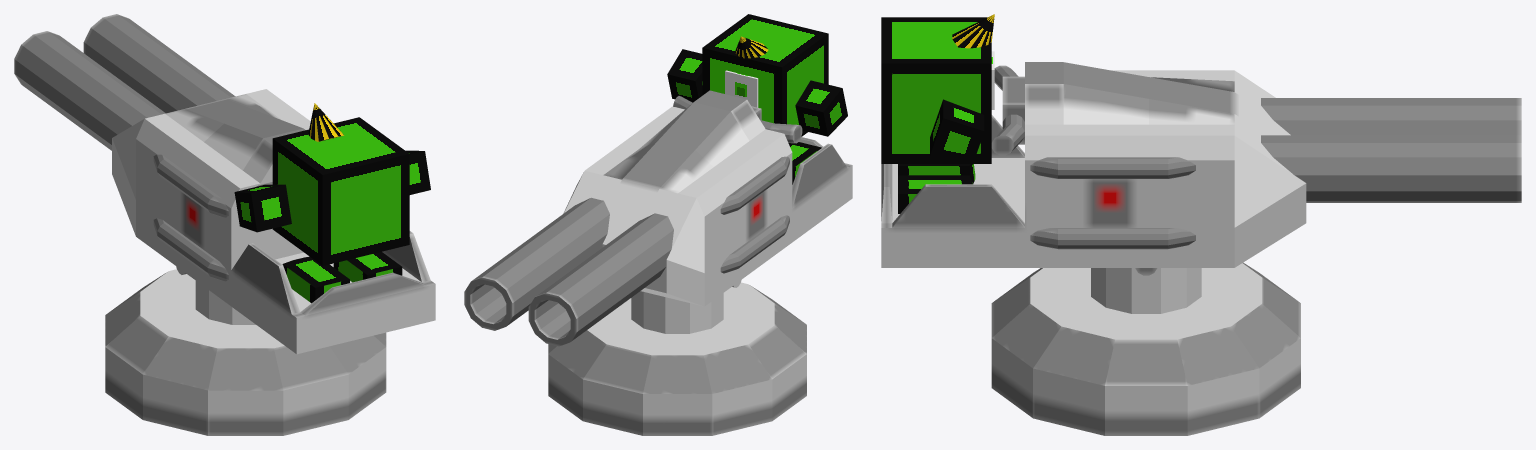
File: akudo-fu+houdai-nirenhou3.fbx
The picture shows the model from 3 angles, left to right: view 1: azimuth 30°, elevation 25°; view 2: azimuth 150°, elevation 25°; view 3: azimuth 270°, elevation 25°; orthographic projection. The views are drawn at different scales.
Parts seen in each view (by area): view 1: cuboid_6, cylinder, cuboid, cylinder_5, cylinder_2, cuboid_4, cuboid_2, cylinder_6, cylinder_7, cuboid_1, cylinder_1, cuboid_3 (+1 smaller); view 2: cuboid_6, cylinder, cylinder_5, cylinder_2, cuboid, cylinder_1, cuboid_4, cuboid_3, cylinder_6, cylinder_7, cuboid_5, cylinder_4 (+2 smaller); view 3: cuboid_6, cylinder, cylinder_2, cuboid, cylinder_5, cylinder_1, cylinder_8, cylinder_9, cuboid_3, cylinder_4, cuboid_1, cuboid_7 (+2 smaller).
Boxes of the visible parts, x1,y1,x2,y2 form: cuboid_6: (112, 89, 435, 354); cylinder: (105, 269, 386, 435); cuboid: (272, 117, 409, 265); cylinder_5: (14, 31, 165, 150); cylinder_2: (83, 14, 235, 113); cuboid_4: (234, 184, 291, 232); cuboid_2: (282, 256, 349, 303); cylinder_6: (153, 154, 228, 217); cylinder_7: (153, 218, 228, 281); cuboid_1: (333, 251, 402, 282); cylinder_1: (195, 281, 255, 324); cuboid_3: (405, 150, 430, 194); cuboid_6: (563, 90, 852, 306); cylinder: (548, 282, 806, 435); cylinder_5: (528, 213, 673, 346); cylinder_2: (464, 197, 609, 330); cuboid: (702, 14, 828, 145); cylinder_1: (631, 291, 723, 333); cuboid_4: (795, 80, 847, 136); cuboid_3: (667, 49, 702, 102); cylinder_6: (720, 156, 789, 214); cylinder_7: (720, 215, 789, 273); cuboid_5: (725, 70, 758, 107); cylinder_4: (673, 96, 802, 143); cuboid_6: (881, 62, 1306, 267); cylinder: (991, 262, 1300, 435); cylinder_2: (1261, 135, 1521, 202); cuboid: (881, 17, 991, 163); cylinder_5: (1261, 98, 1521, 135); cylinder_1: (1091, 268, 1201, 313); cylinder_8: (1030, 157, 1195, 178); cylinder_9: (1030, 228, 1195, 249); cuboid_3: (930, 99, 984, 164); cylinder_4: (991, 65, 1024, 155); cuboid_1: (898, 175, 972, 213); cuboid_7: (1002, 76, 1024, 144).
Bounding box in the file's own units: 175 × 223 × 362.
